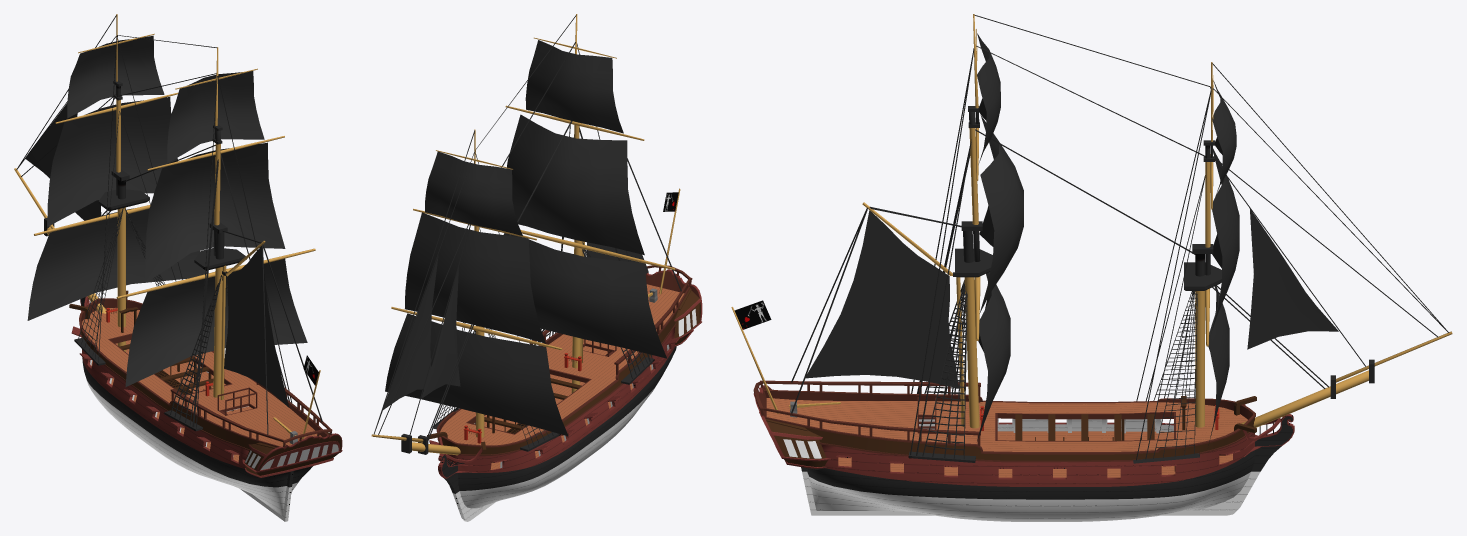
File: Pirateship_FINAL.fbx
3 views of the same model, side by side, from view 1: azimuth 30°, elevation 25°; view 2: azimuth 150°, elevation 25°; view 3: azimuth 270°, elevation 25° (orthographic). The views are drawn at different scales.
Parts seen in each view (by area): view 1: Sails, Hull, Rigging, Mainmast, Foremast, Cabin, Rails, Mizzenmast.003, Bulwarks, Bowsprit, Gunportcovers; view 2: Sails, Hull, Rigging, Mainmast, Cabin, Foremast, Bowsprit, Rails, Bulwarks, Gunportcovers, DeckEquipment; view 3: Hull, Sails, Rigging, Mainmast, Foremast, Rails, Cabin, Bowsprit, Mizzenmast.003.
Part boxes in pixels (box(x1,y1,x2,y2)): Sails: box(25, 35, 307, 407); Hull: box(69, 290, 327, 521); Rigging: box(16, 15, 322, 434); Mainmast: box(116, 47, 315, 397); Foremast: box(34, 14, 178, 351); Cabin: box(242, 432, 342, 477); Rails: box(170, 382, 332, 447); Mizzenmast.003: box(220, 240, 265, 399); Bulwarks: box(74, 337, 294, 431); Bowsprit: box(14, 168, 117, 343); Gunportcovers: box(71, 326, 239, 454); Sails: box(383, 40, 666, 436); Hull: box(427, 284, 690, 521); Rigging: box(373, 15, 681, 448); Mainmast: box(505, 14, 675, 393); Cabin: box(645, 269, 702, 346); Foremast: box(391, 129, 562, 437); Bowsprit: box(371, 434, 460, 455); Rails: box(529, 265, 692, 374); Bulwarks: box(432, 357, 654, 451); Gunportcovers: box(429, 337, 679, 462); DeckEquipment: box(463, 353, 582, 443); Hull: box(764, 389, 1294, 521); Sails: box(806, 33, 1338, 445); Rigging: box(791, 14, 1448, 460); Mainmast: box(955, 14, 992, 428); Foremast: box(1184, 62, 1221, 427); Rails: box(753, 380, 980, 446); Cabin: box(753, 385, 831, 469); Bowsprit: box(1241, 331, 1452, 427); Mizzenmast.003: box(862, 202, 964, 426).
Bounding box in the file's own units: 1752 × 3589 × 4686.
Materials: 17 (6 with a texture image).
